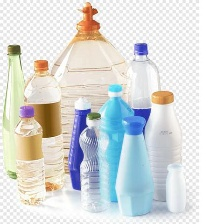bottle: (42, 0, 134, 178), (20, 57, 64, 194), (94, 81, 136, 205), (141, 87, 184, 200), (0, 39, 34, 181), (115, 108, 157, 218), (123, 39, 170, 133), (10, 103, 49, 207), (78, 111, 116, 214), (66, 92, 100, 192), (162, 161, 189, 215)
